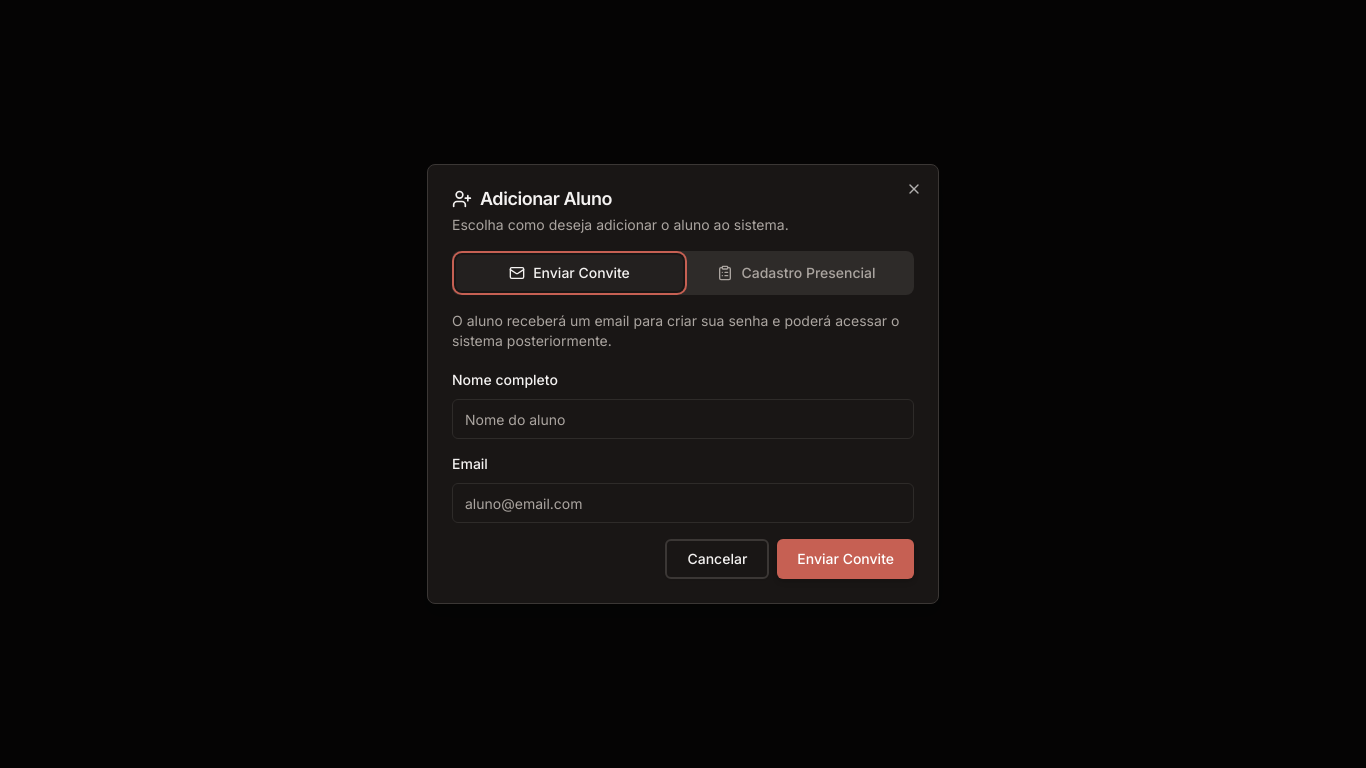
Test: convite para conta que nunca entrou: avisa que o link de acesso foi enviado
The width and height of the screenshot is (1366, 768).
Type "Aluno Sintético" into the field labelled "Nome completo" at (683, 419), box [452, 399, 914, 439]
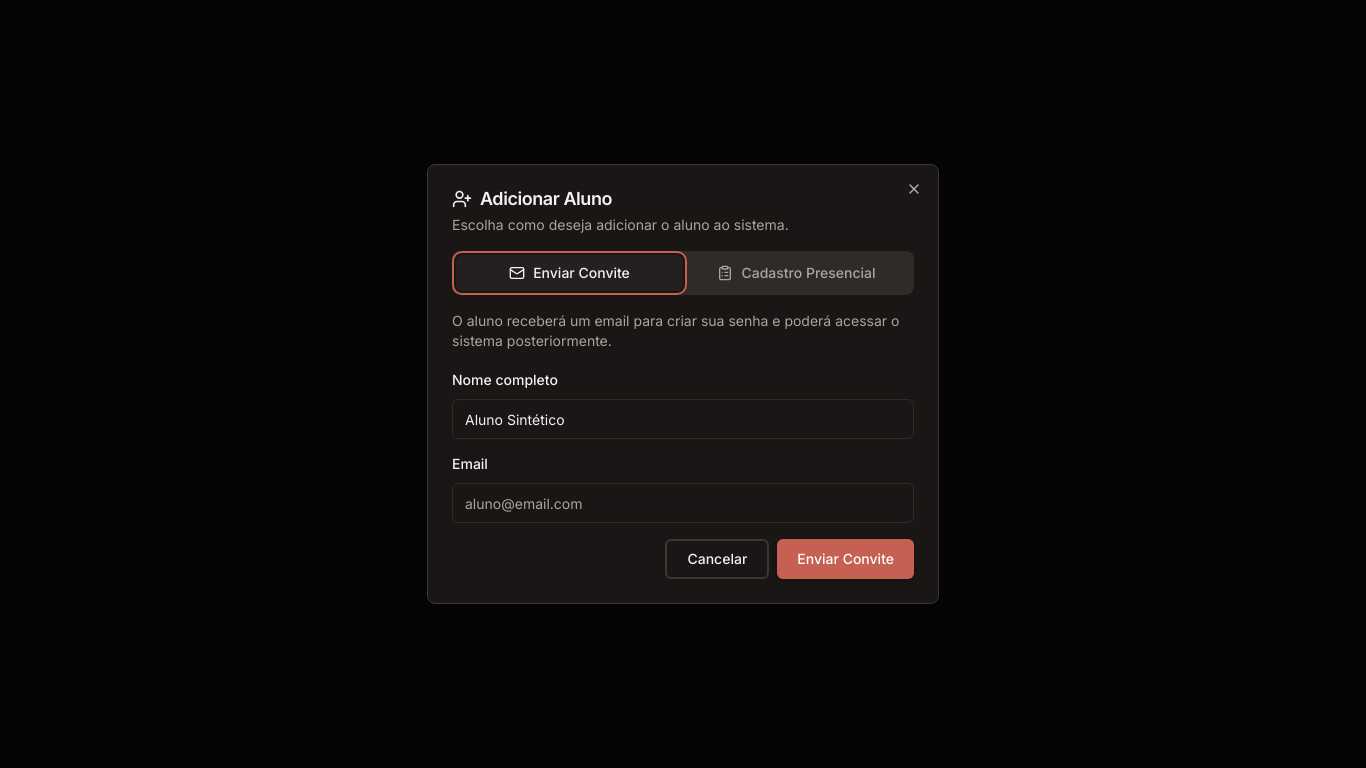
Type "prof@example.invalid" into the field labelled "Email" at (683, 503), box [452, 483, 914, 523]
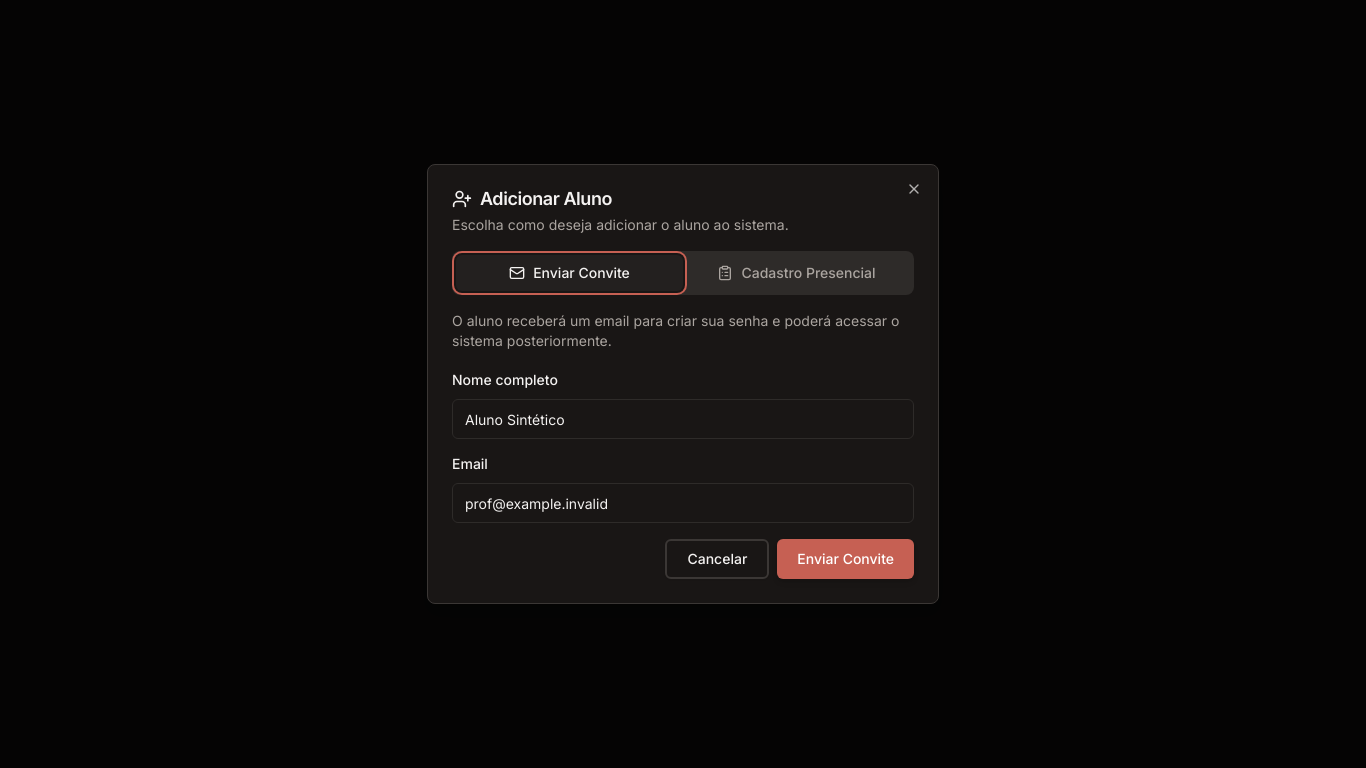
Click the button "Enviar Convite" at (846, 559), box [777, 539, 914, 579]
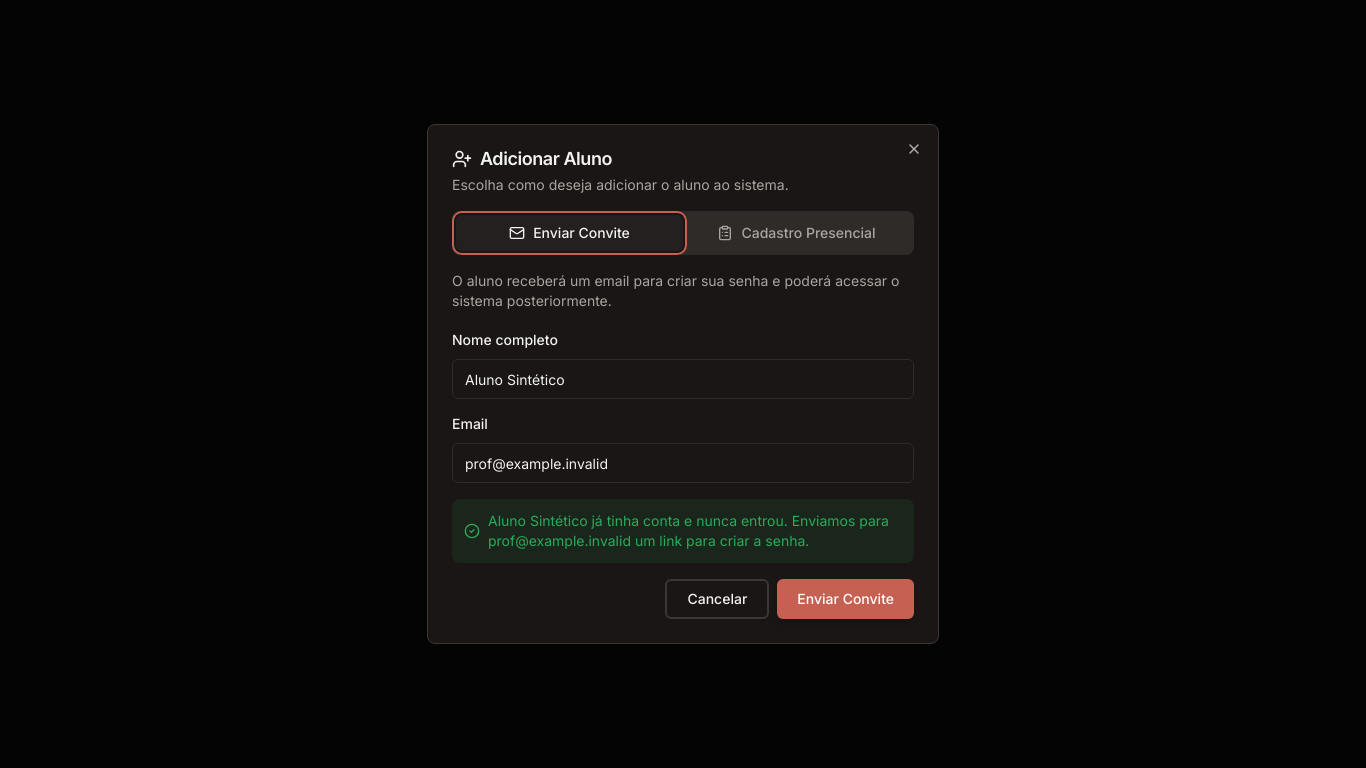
Expected: the text "um link para criar a senha" is shown, [488, 512, 889, 549]
